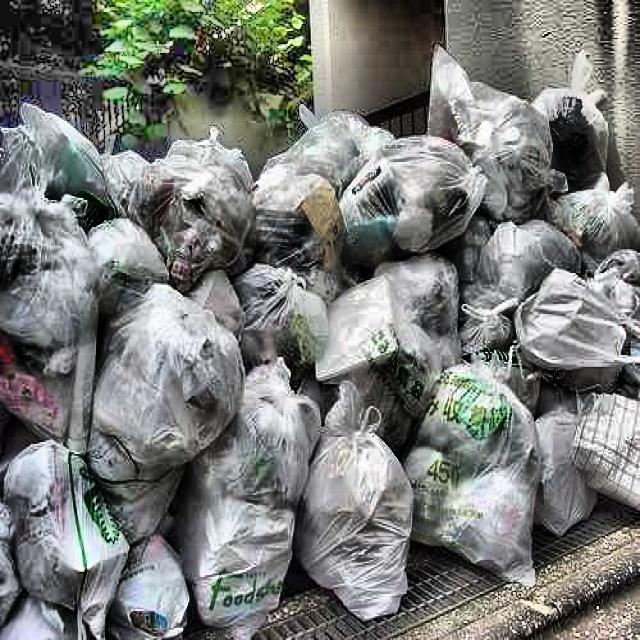Plastic: (386, 360, 560, 601), (92, 283, 248, 490), (186, 364, 295, 628), (335, 125, 497, 287), (0, 443, 135, 622), (116, 144, 274, 288), (308, 419, 415, 626), (509, 255, 638, 384), (540, 44, 622, 192)
